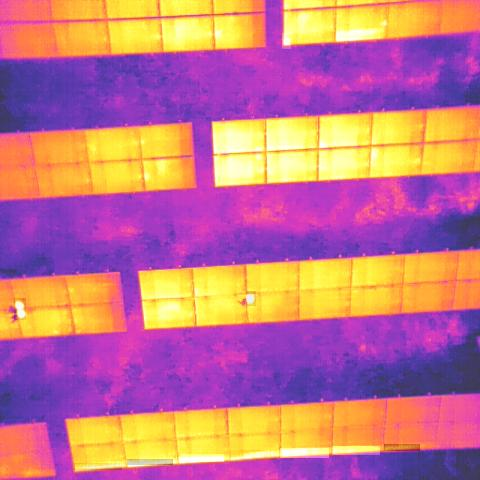fault: (280, 448, 329, 458), (229, 450, 277, 460), (332, 446, 380, 455), (180, 454, 224, 462), (74, 463, 122, 470), (128, 459, 174, 465), (14, 298, 26, 320), (384, 444, 420, 451), (246, 291, 256, 306), (282, 33, 291, 49)
